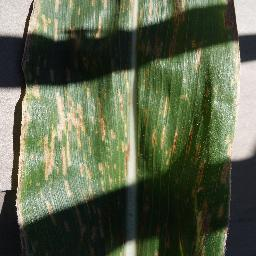Gray_Leaf_Spot: (23, 0, 188, 31), (89, 67, 133, 177), (219, 43, 240, 256), (45, 30, 179, 61), (190, 119, 219, 256), (74, 176, 114, 255), (55, 92, 87, 178), (13, 81, 43, 143), (14, 143, 26, 256), (149, 122, 182, 155), (141, 90, 174, 122), (154, 222, 184, 256), (17, 30, 36, 81), (221, 0, 241, 42), (44, 115, 56, 180), (46, 63, 78, 86), (43, 195, 57, 227), (192, 38, 203, 73), (142, 62, 156, 89), (62, 178, 75, 200), (179, 89, 195, 104), (27, 241, 43, 256), (58, 221, 71, 233), (141, 201, 153, 214)
